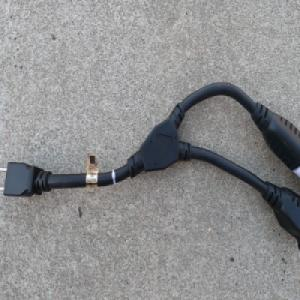Wire: (0, 81, 300, 250)
